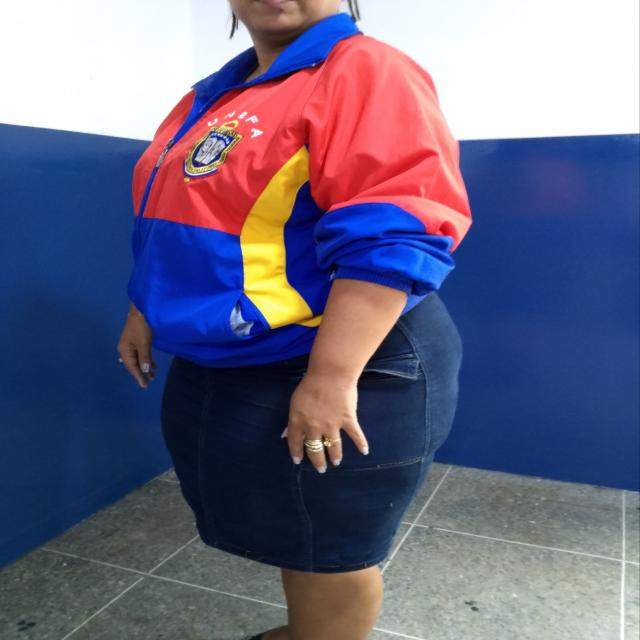chaqueta_unefa: (126, 11, 474, 368)
pantalon_oscuro: (159, 293, 464, 575)
